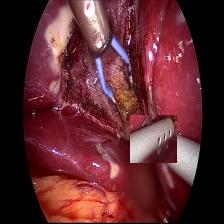Bipolar: (83, 19, 163, 119)
Irrigator: (130, 115, 177, 163)
